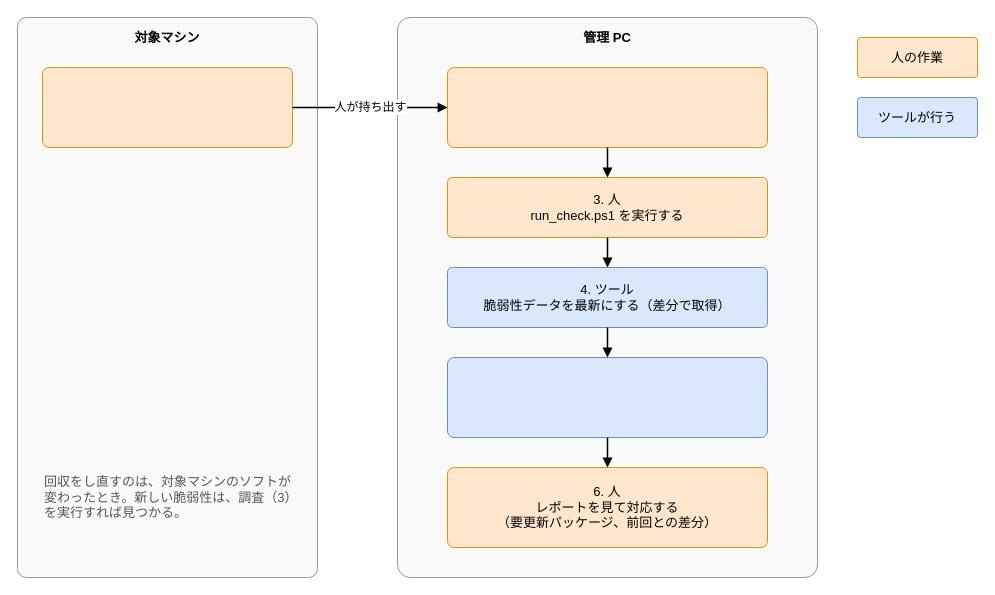
This 995x595 diagram has some shape labels left out. Each missing label, with the box of its shape:
1. 人 回収スクリプトを実行する → ソフトの一覧（SBOM など）: (42, 66, 292, 148)
2. 人 回収物を inventory/ に、 会社公表リストを advisory/ に置く: (446, 66, 768, 148)
5. ツール 照合と判定 reports/日付/ にレポート（前回との差分つき）: (446, 356, 768, 438)
